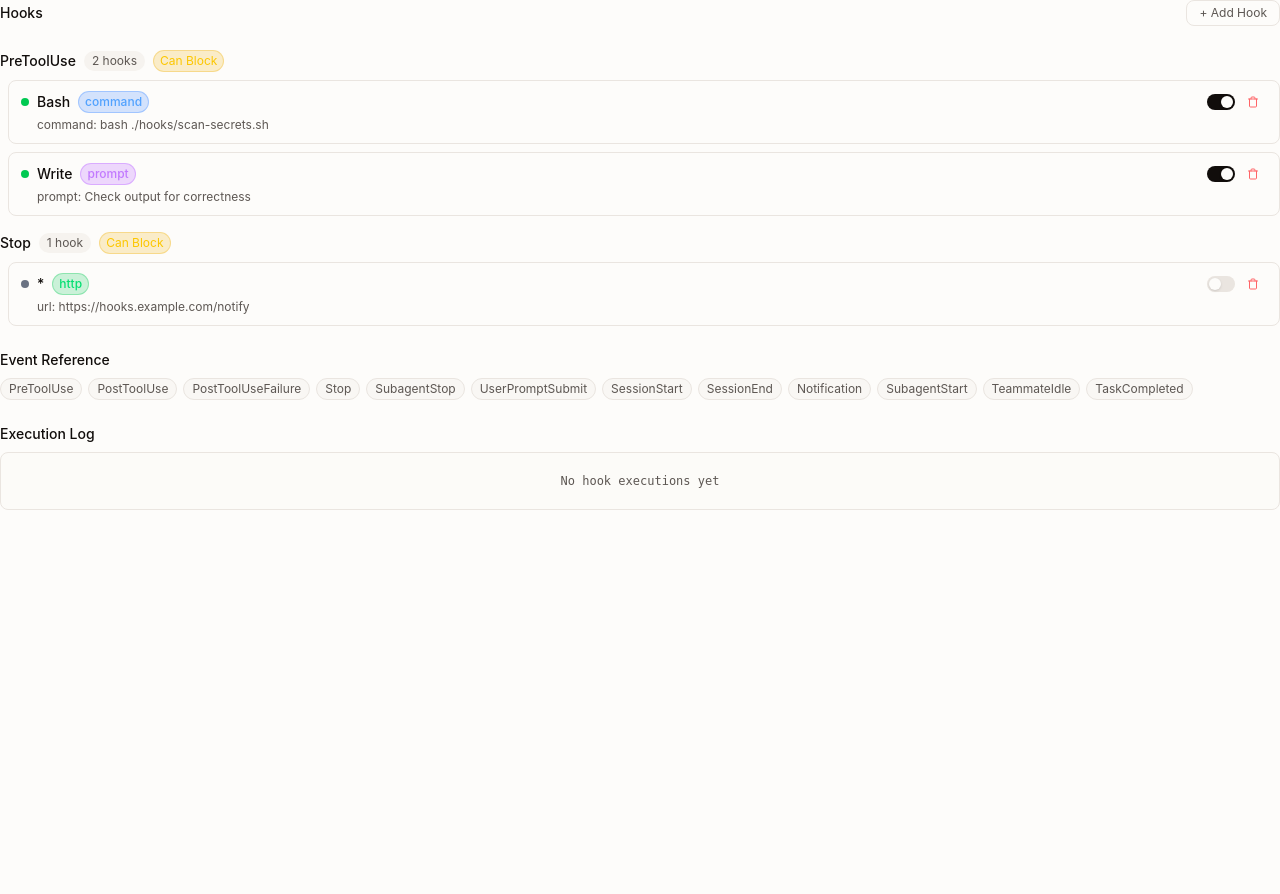
Test: HooksPanel › validates required event on add
Check: the element with test id "hooks-panel" is shown, box 0,0 -> 1279,510
Note: Re-render with empty events (this doesn't actually re-fetch, so we test the save validation)
What coordinates should you click on to do the following:
click the button with test id "hooks-add-btn"
I would click on:
 (1233, 13)
Its box is 1186,0 -> 1279,26.
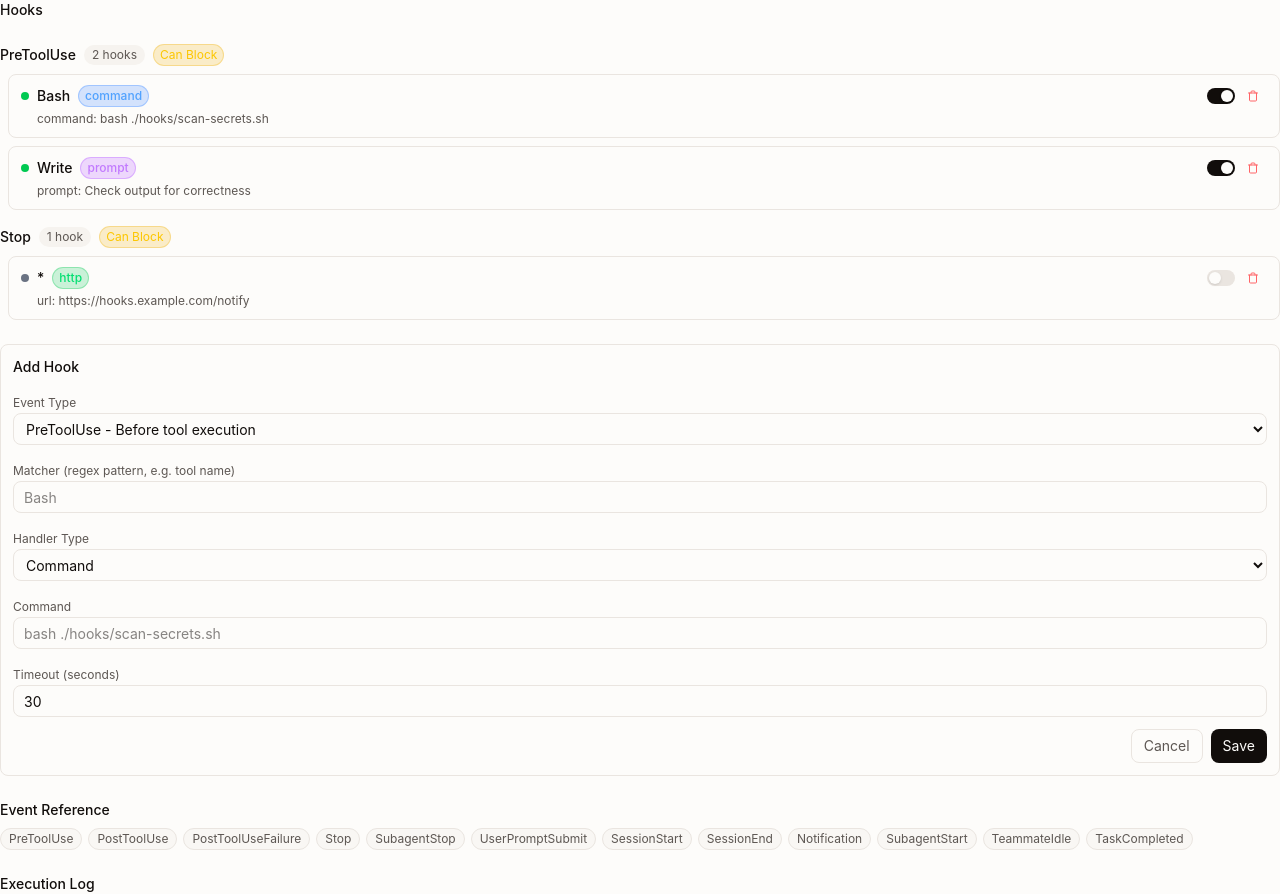
Note: The event select will have the first event pre-selected, but let's test command validation
What coordinates should you click on to do the following:
click the button with test id "hooks-add-save-btn"
I would click on:
 (1239, 746)
Its box is 1211,729 -> 1267,763.
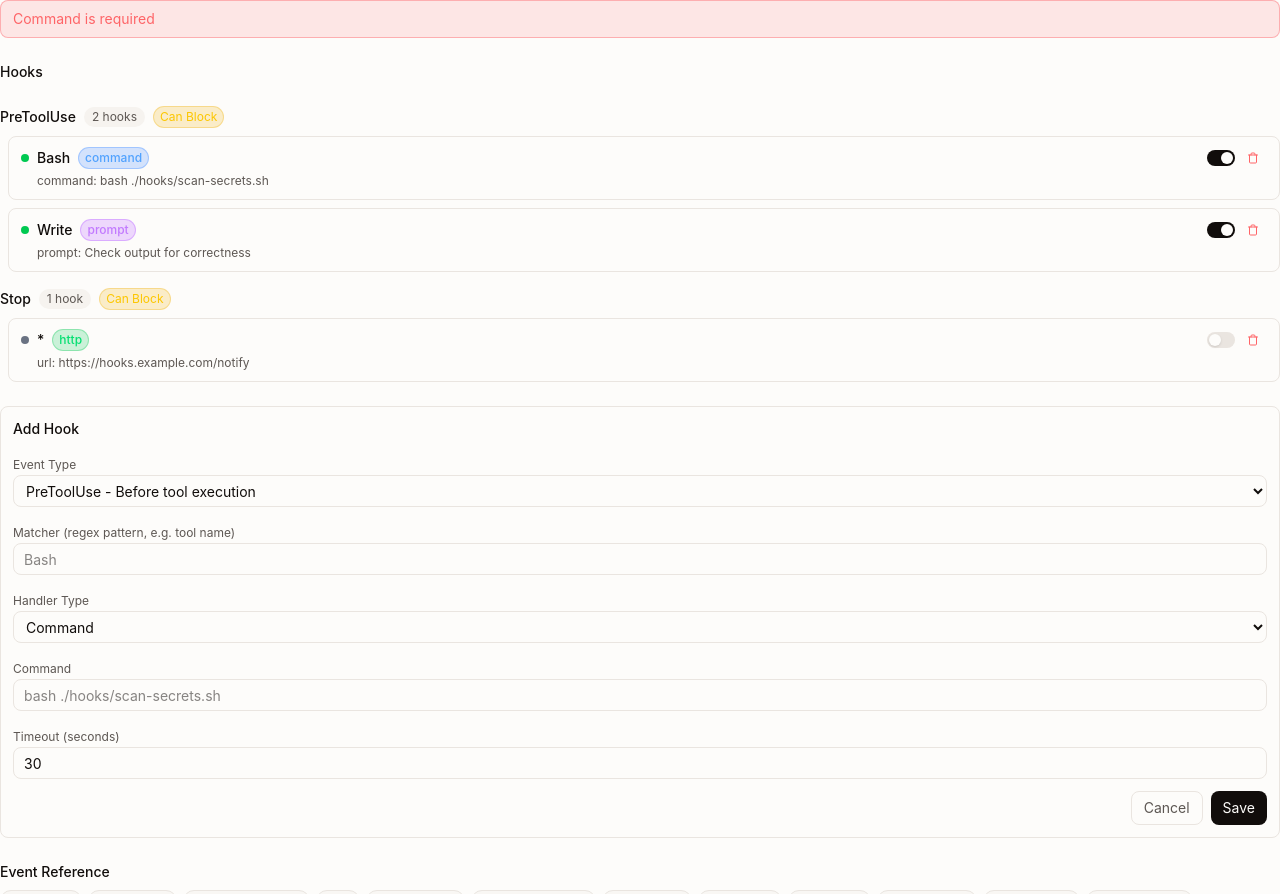
Check: the text "Command is required" is shown, box 0,0 -> 1279,38
Check: the text with test id "hooks-error" reads "Command is required", box 13,10 -> 155,27
